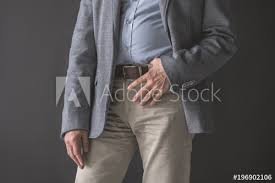F_belt: (107, 61, 165, 82)
